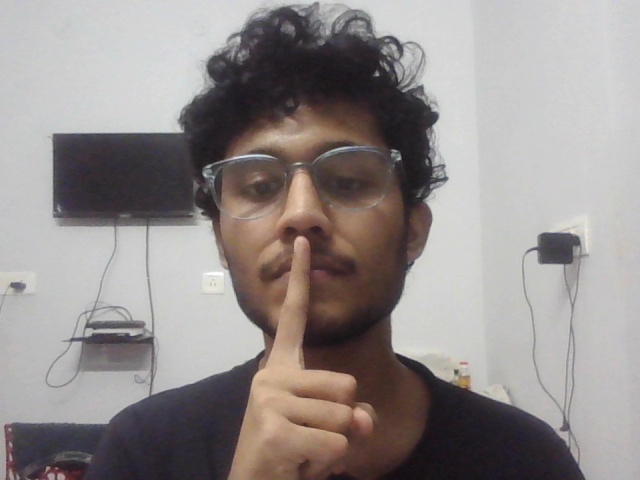Quiet: (218, 230, 426, 480)
